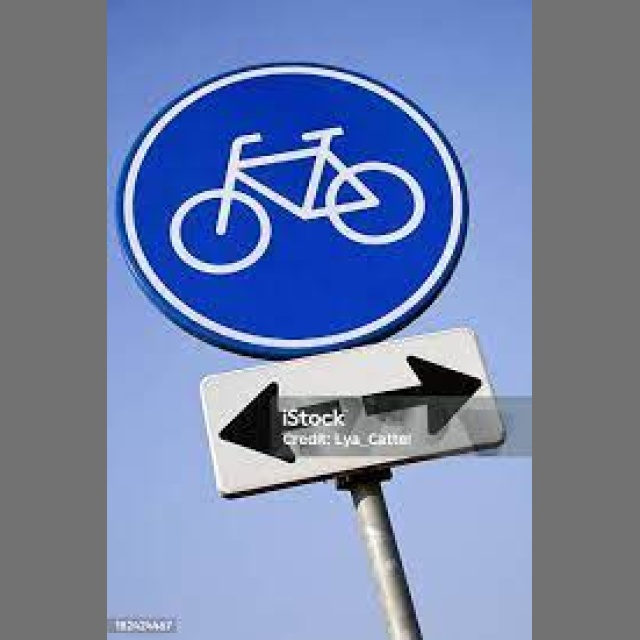Compulsory_Cycle_Track: (124, 63, 474, 322)
